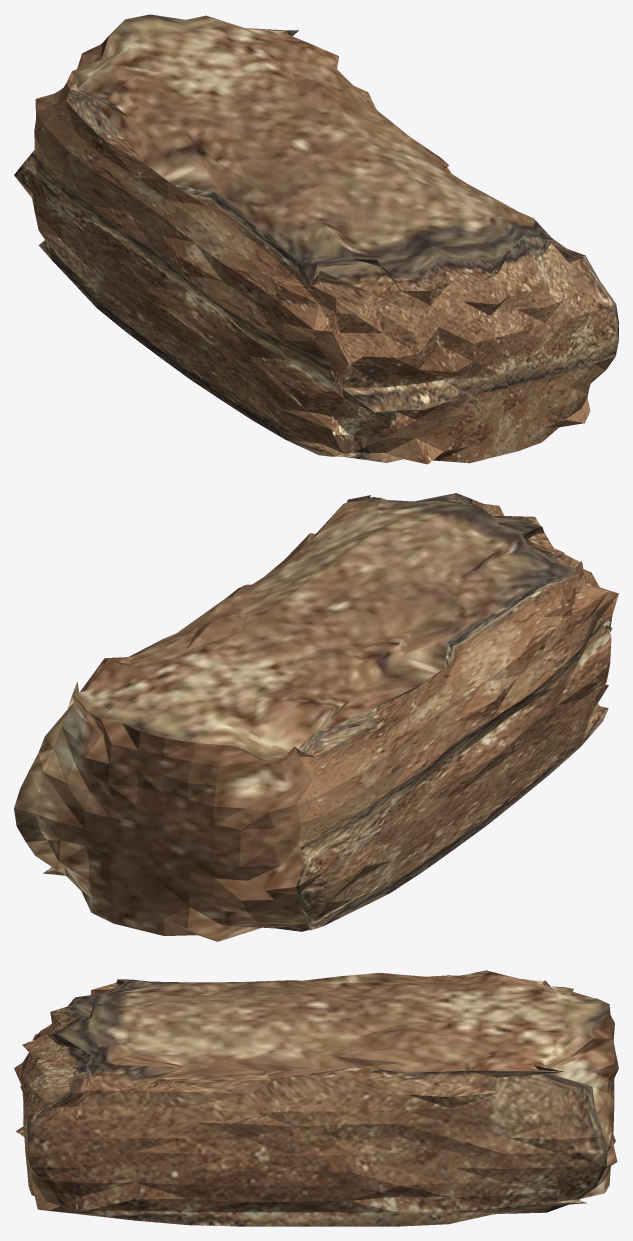
File: Ladrillo2.fbx
3 renders of one model, top to bottom at view 1: azimuth 30°, elevation 25°; view 2: azimuth 150°, elevation 25°; view 3: azimuth 270°, elevation 25°, orthographic. The views are drawn at different scales.
Visible parts, largest first — view 1: Ladrillo.004; view 2: Ladrillo.004; view 3: Ladrillo.004.
Part boxes in pixels (x1,y1,x2,y2): Ladrillo.004: (14,14,618,464); Ladrillo.004: (14,493,618,941); Ladrillo.004: (14,970,618,1226).
Size of the model in its own units: 156 by 104 by 336.
